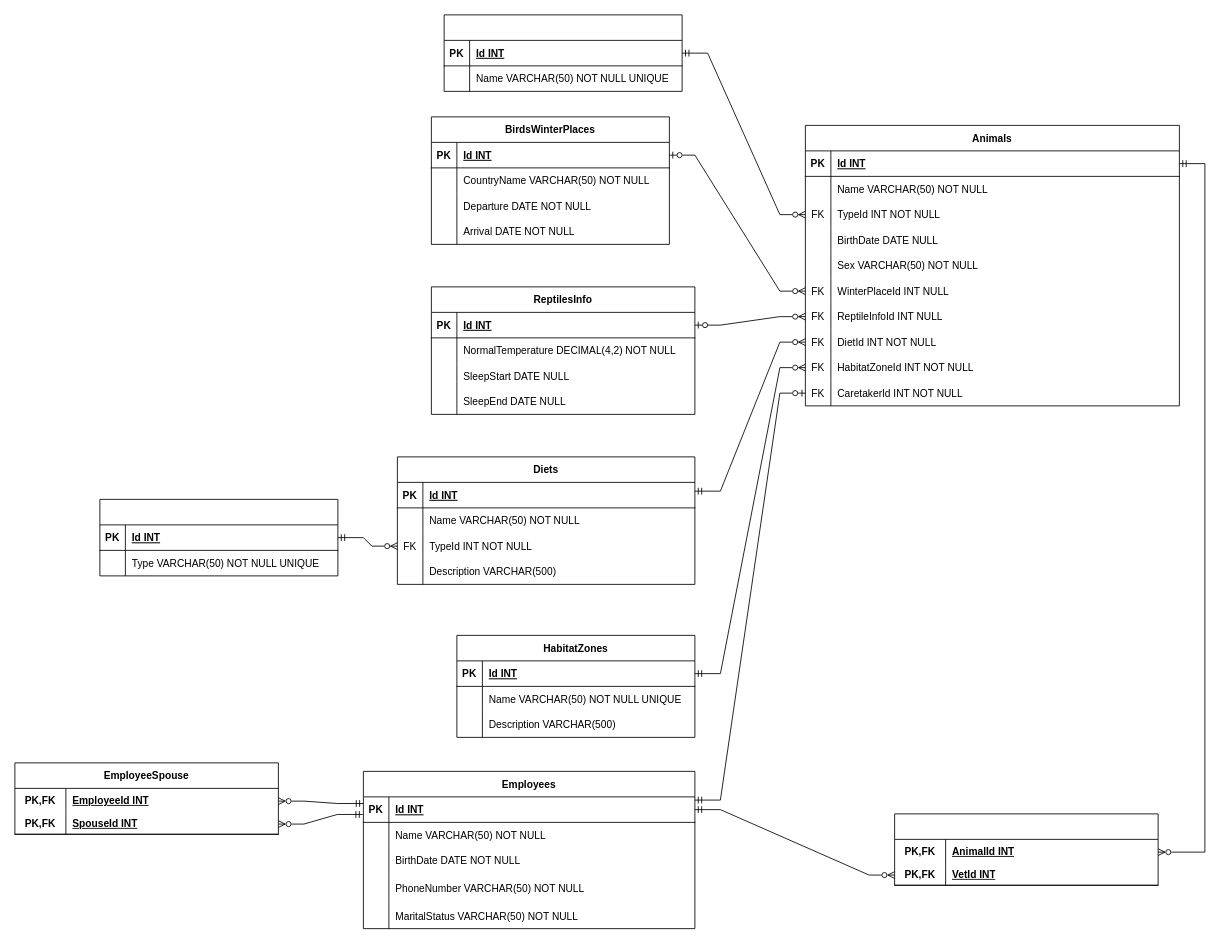
Image size: 1227x944. Some labels were removed from this diagram. The shapes that lost their labels are listed below. From the top down, each one's box as (x1, y1, x2, y2) in pixels, then its label:
(443, 14, 682, 91): AnimalTypes
(99, 499, 338, 576): DietTypes
(894, 813, 1158, 885): AnimalVet
